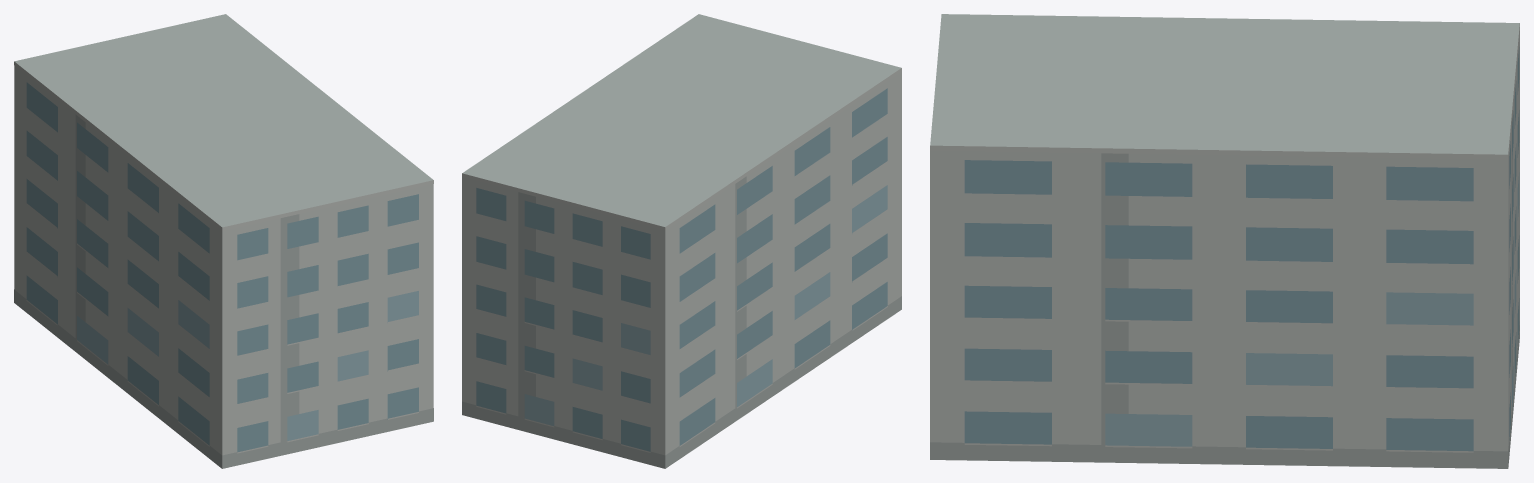
File: residential-0c474881-8f36-42cd-9219-45bacc082c83.glb
The picture shows the model from 3 angles, left to right: view 1: azimuth 30°, elevation 25°; view 2: azimuth 150°, elevation 25°; view 3: azimuth 270°, elevation 25°; orthographic projection. The views are drawn at different scales.
Visible parts, largest first — view 1: residential-0c474881-8f36-42cd-9219-45bacc082c83.tmp; view 2: residential-0c474881-8f36-42cd-9219-45bacc082c83.tmp; view 3: residential-0c474881-8f36-42cd-9219-45bacc082c83.tmp.
Part boxes in pixels (x1=…): residential-0c474881-8f36-42cd-9219-45bacc082c83.tmp: x1=14, y1=14, x2=433, y2=468; residential-0c474881-8f36-42cd-9219-45bacc082c83.tmp: x1=462, y1=14, x2=901, y2=468; residential-0c474881-8f36-42cd-9219-45bacc082c83.tmp: x1=930, y1=14, x2=1519, y2=468.
Bounding box in the file's own units: 14.65 × 15.25 × 25.95.
